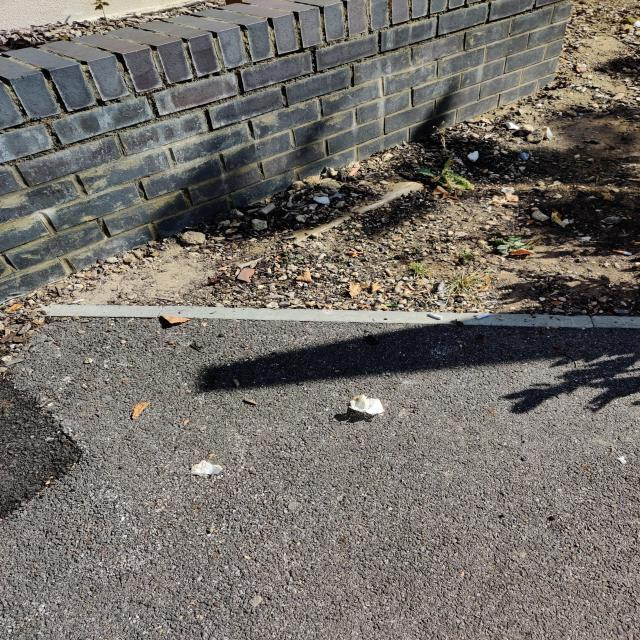litter: (349, 397, 383, 416)
